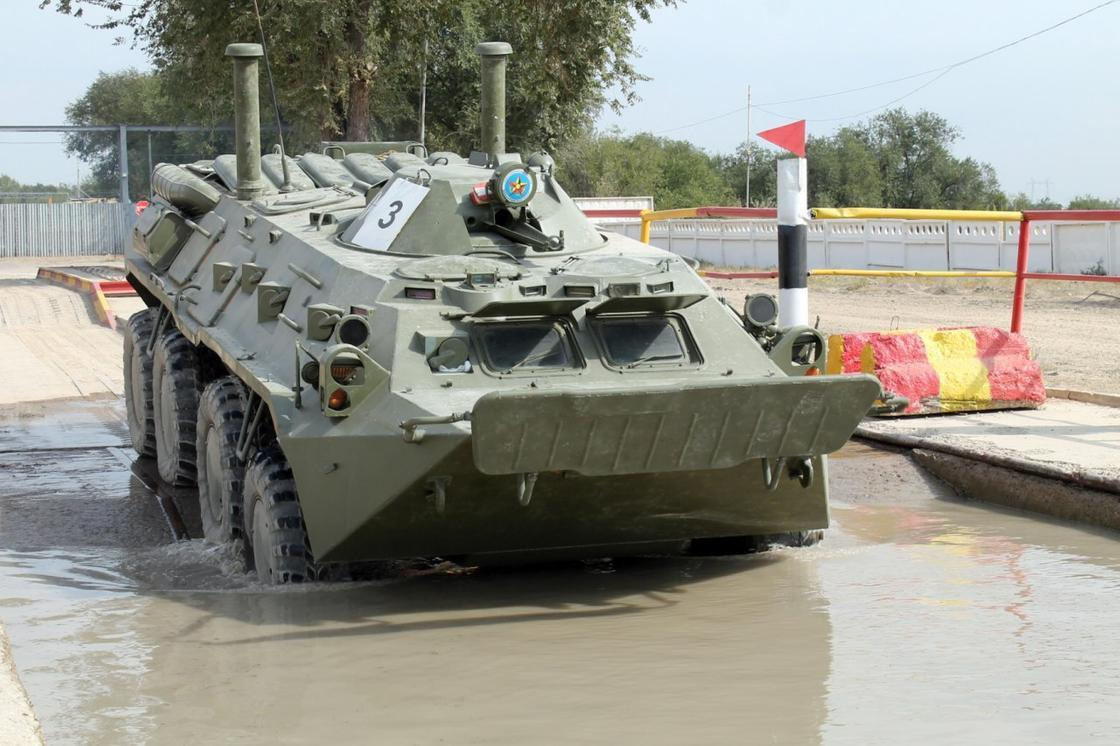tank: (120, 41, 884, 587)
